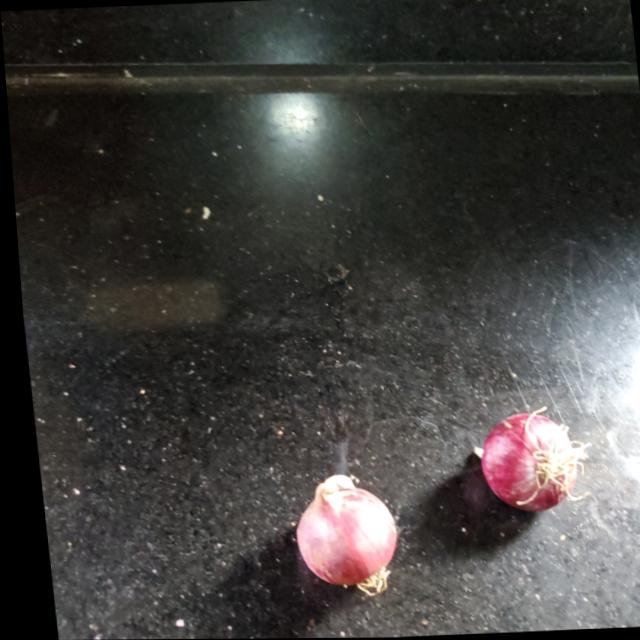onion: (280, 475, 393, 593), (469, 412, 578, 515)
